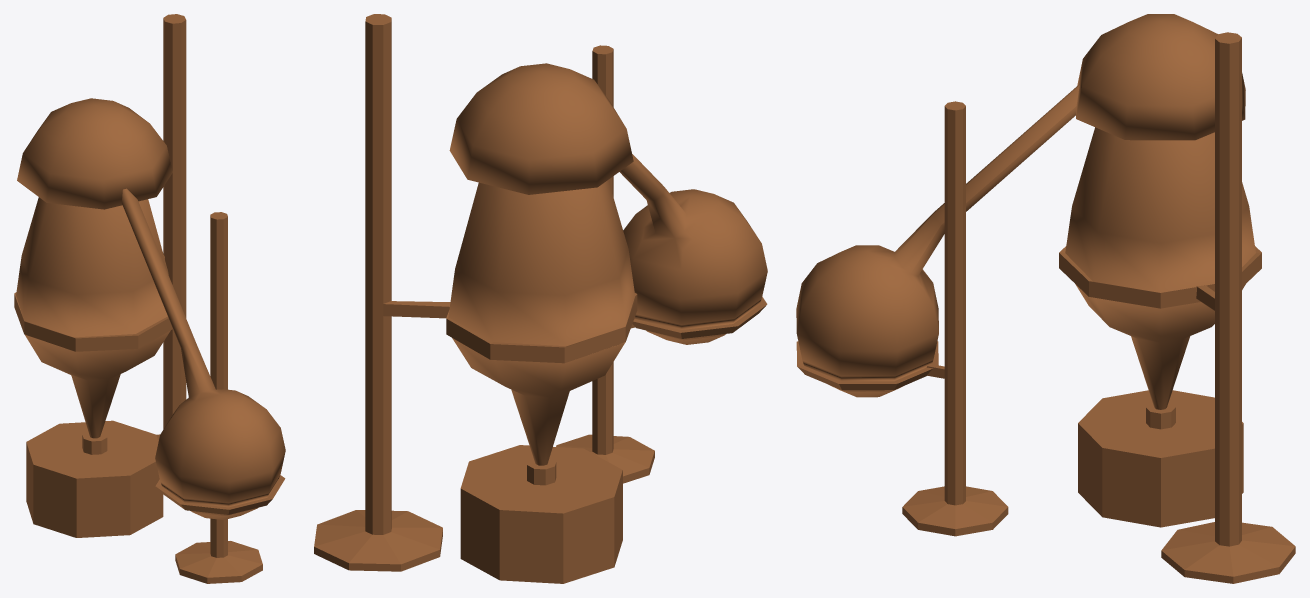
The model's file is Alembic.fbx.
3 views of the same model, side by side, from view 1: azimuth 30°, elevation 25°; view 2: azimuth 150°, elevation 25°; view 3: azimuth 270°, elevation 25° (orthographic). The views are drawn at different scales.
Parts seen in each view (by area): view 1: Cylinder.010; view 2: Cylinder.010; view 3: Cylinder.010.
Boxes of the visible parts, x1,y1,x2,y2 form: Cylinder.010: [14, 14, 285, 583]; Cylinder.010: [314, 14, 767, 583]; Cylinder.010: [796, 14, 1295, 583].
Size of the model in its own units: 17.93 by 33.12 by 28.96.
